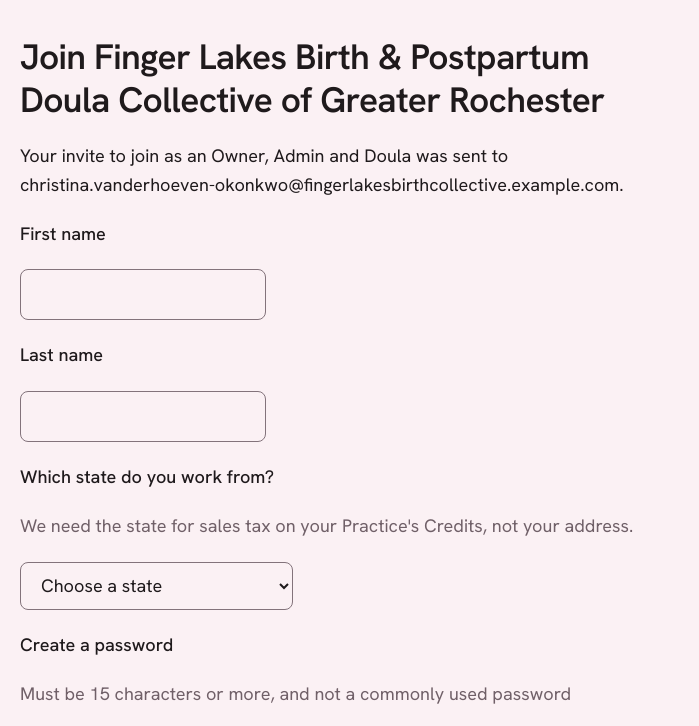
Test: a person who is new here › reports a non-technical failure rather than whatever the auth SDK threw
This screenshot has width=699, height=726.
Step 1. Type "Priya" into the field labelled "First name" → (143, 295), box [20,269,266,320]
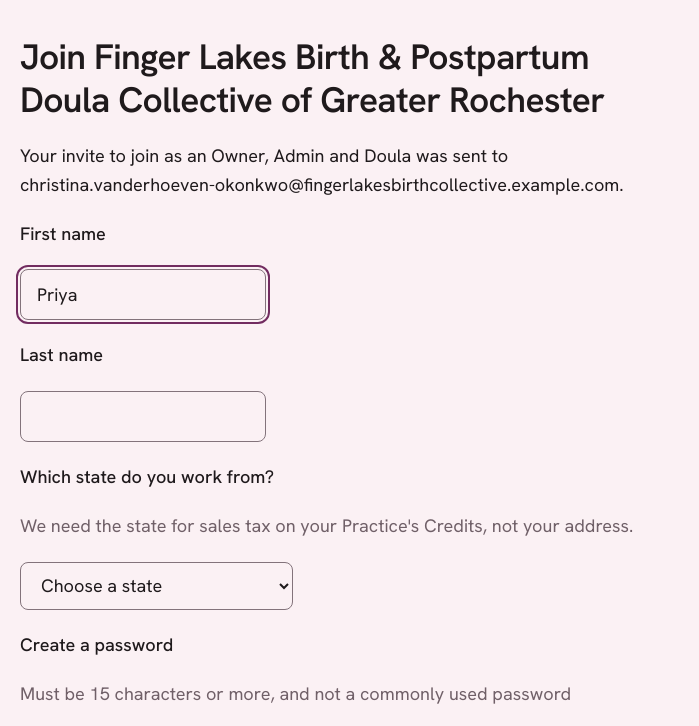
Step 2. Type "Sharma" into the field labelled "Last name" → (143, 416), box [20,391,266,442]
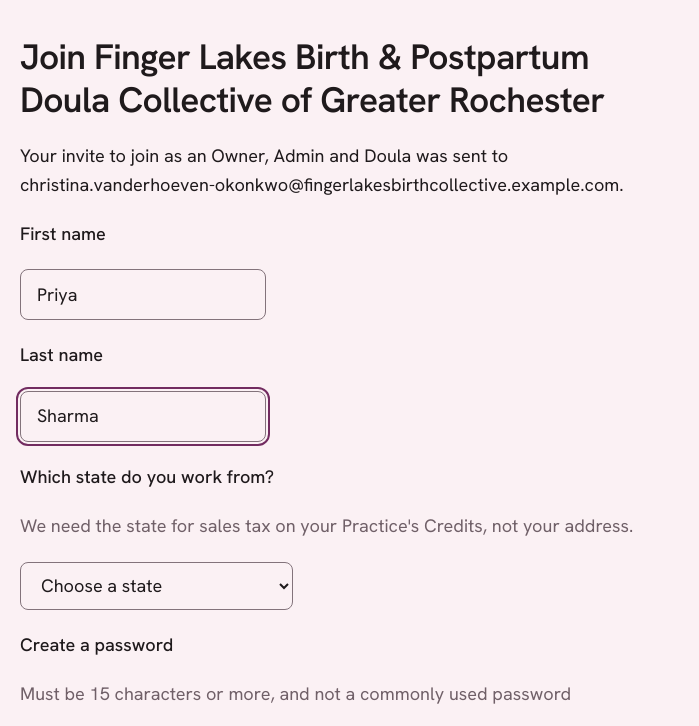
Step 3. Select "New Jersey" in the dropdown labelled "Which state do you work from?" → (156, 586), box [20,562,293,610]
(page scrolled)
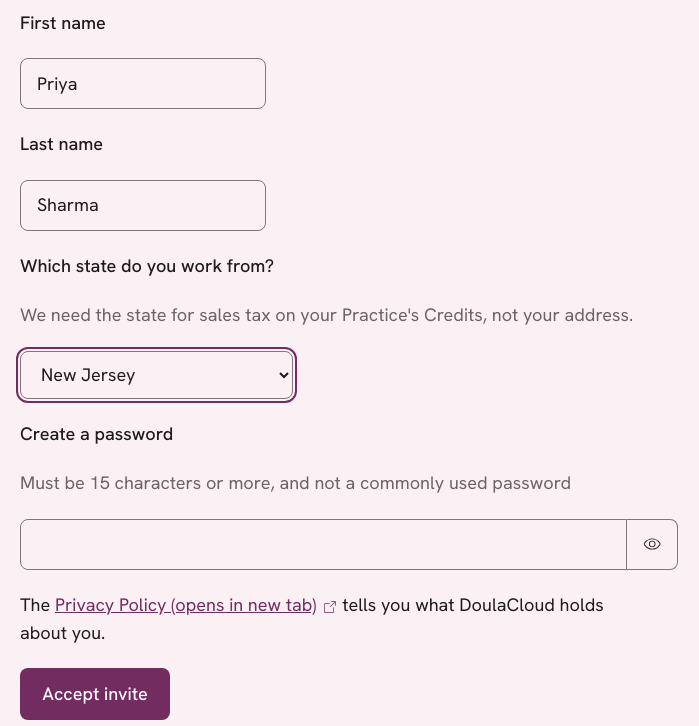
Step 4. Type "correct horse battery" into the password field labelled "Create a password" → (323, 544), box [20,519,627,570]
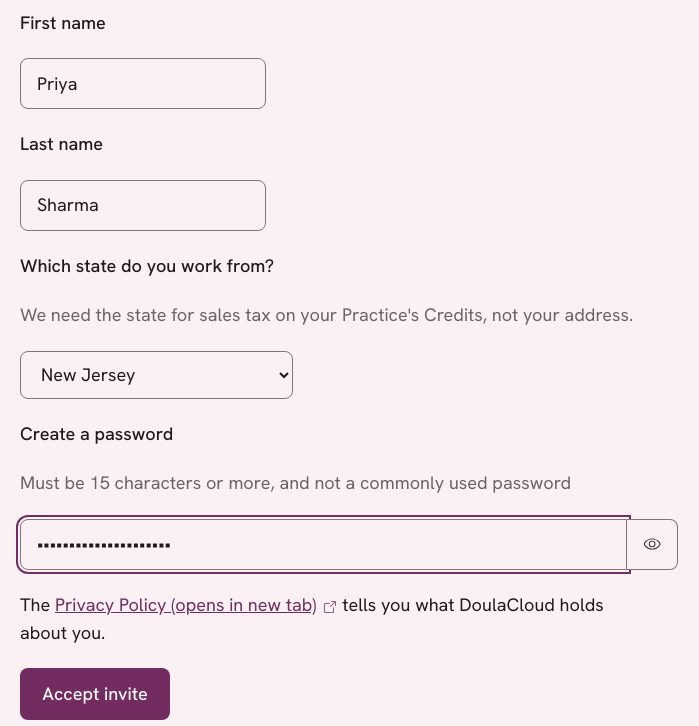
Step 5. Click the button "Accept invite" → (95, 694), box [20,668,170,720]
(page scrolled)
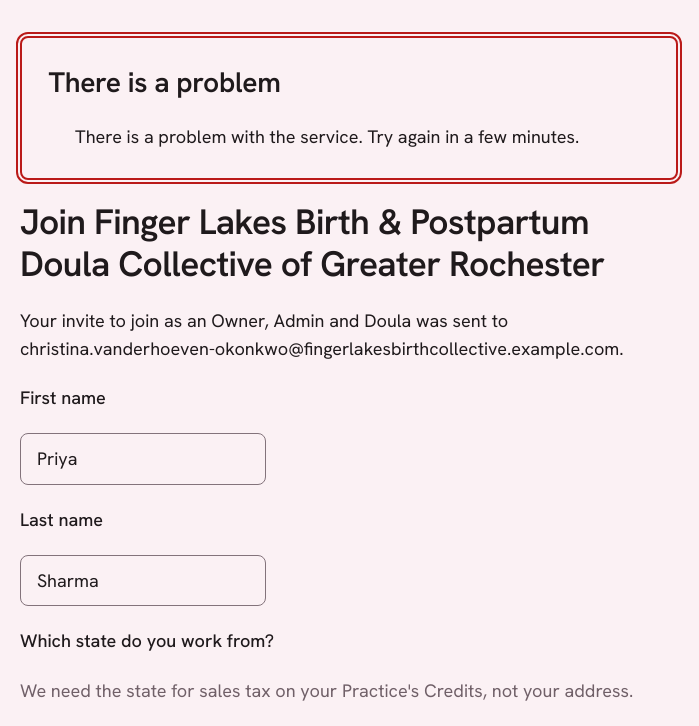
Expected: the message does not show "auth/invalid-credential", [48,65,650,151]
Result: the message is shown at [48,65,650,151]
